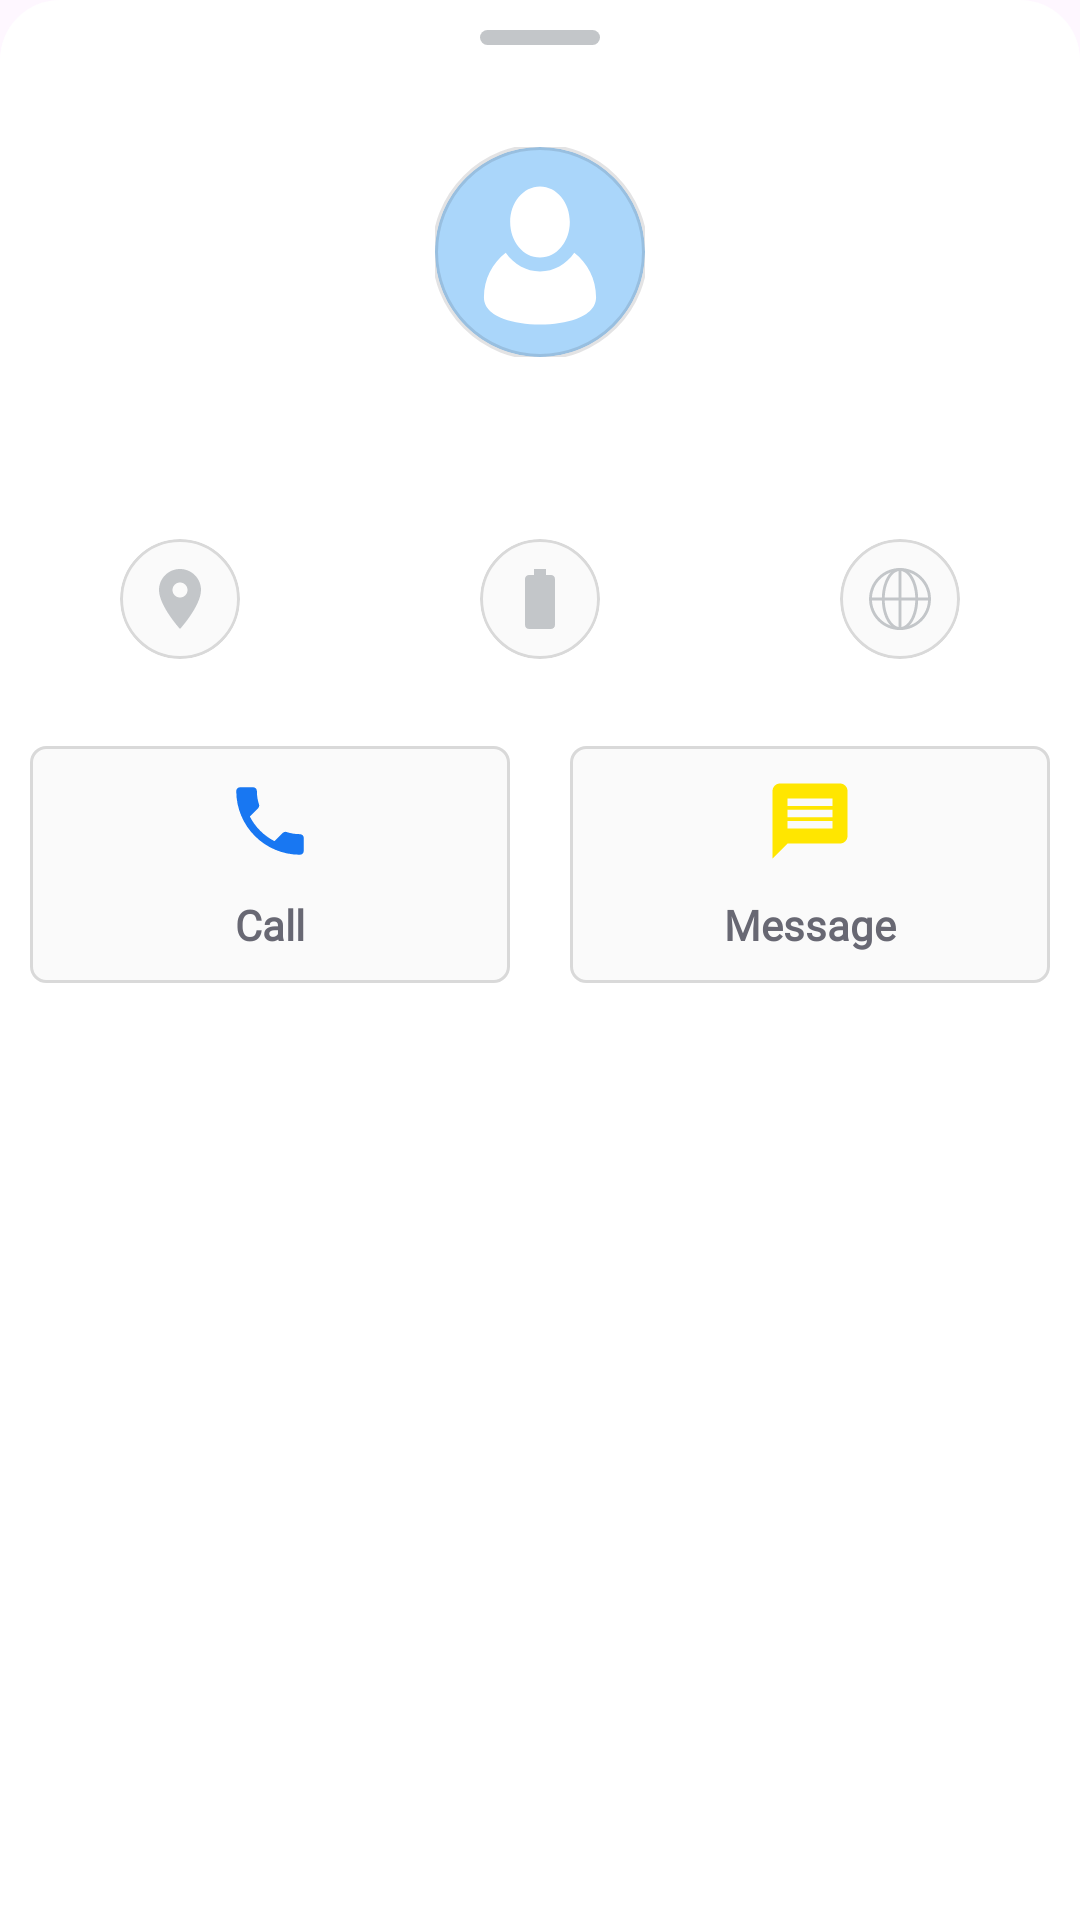

Icon bounding boxes for this 1080*1920 phone screenshot, format region(x1, y1, x2, y2):
Battery: region(480, 539, 600, 659)
Location: region(120, 539, 240, 659)
Network: region(840, 539, 960, 659)
phone: region(236, 787, 304, 855)
User Image: region(435, 147, 645, 357)
